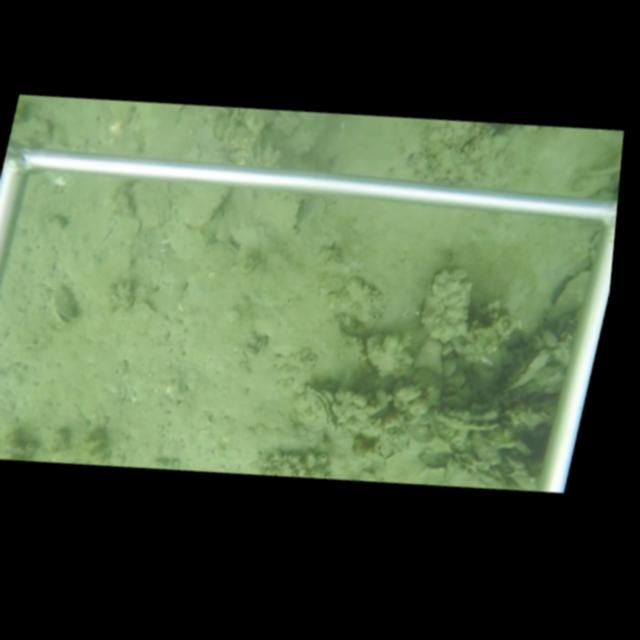Oyster-Closed: (503, 348, 555, 394), (296, 386, 339, 437), (254, 333, 271, 359)
Oyster-Indeterminate: (174, 182, 235, 229), (542, 271, 588, 324)
Oyster-Open: (450, 451, 513, 488), (429, 404, 504, 434), (49, 282, 84, 328)
